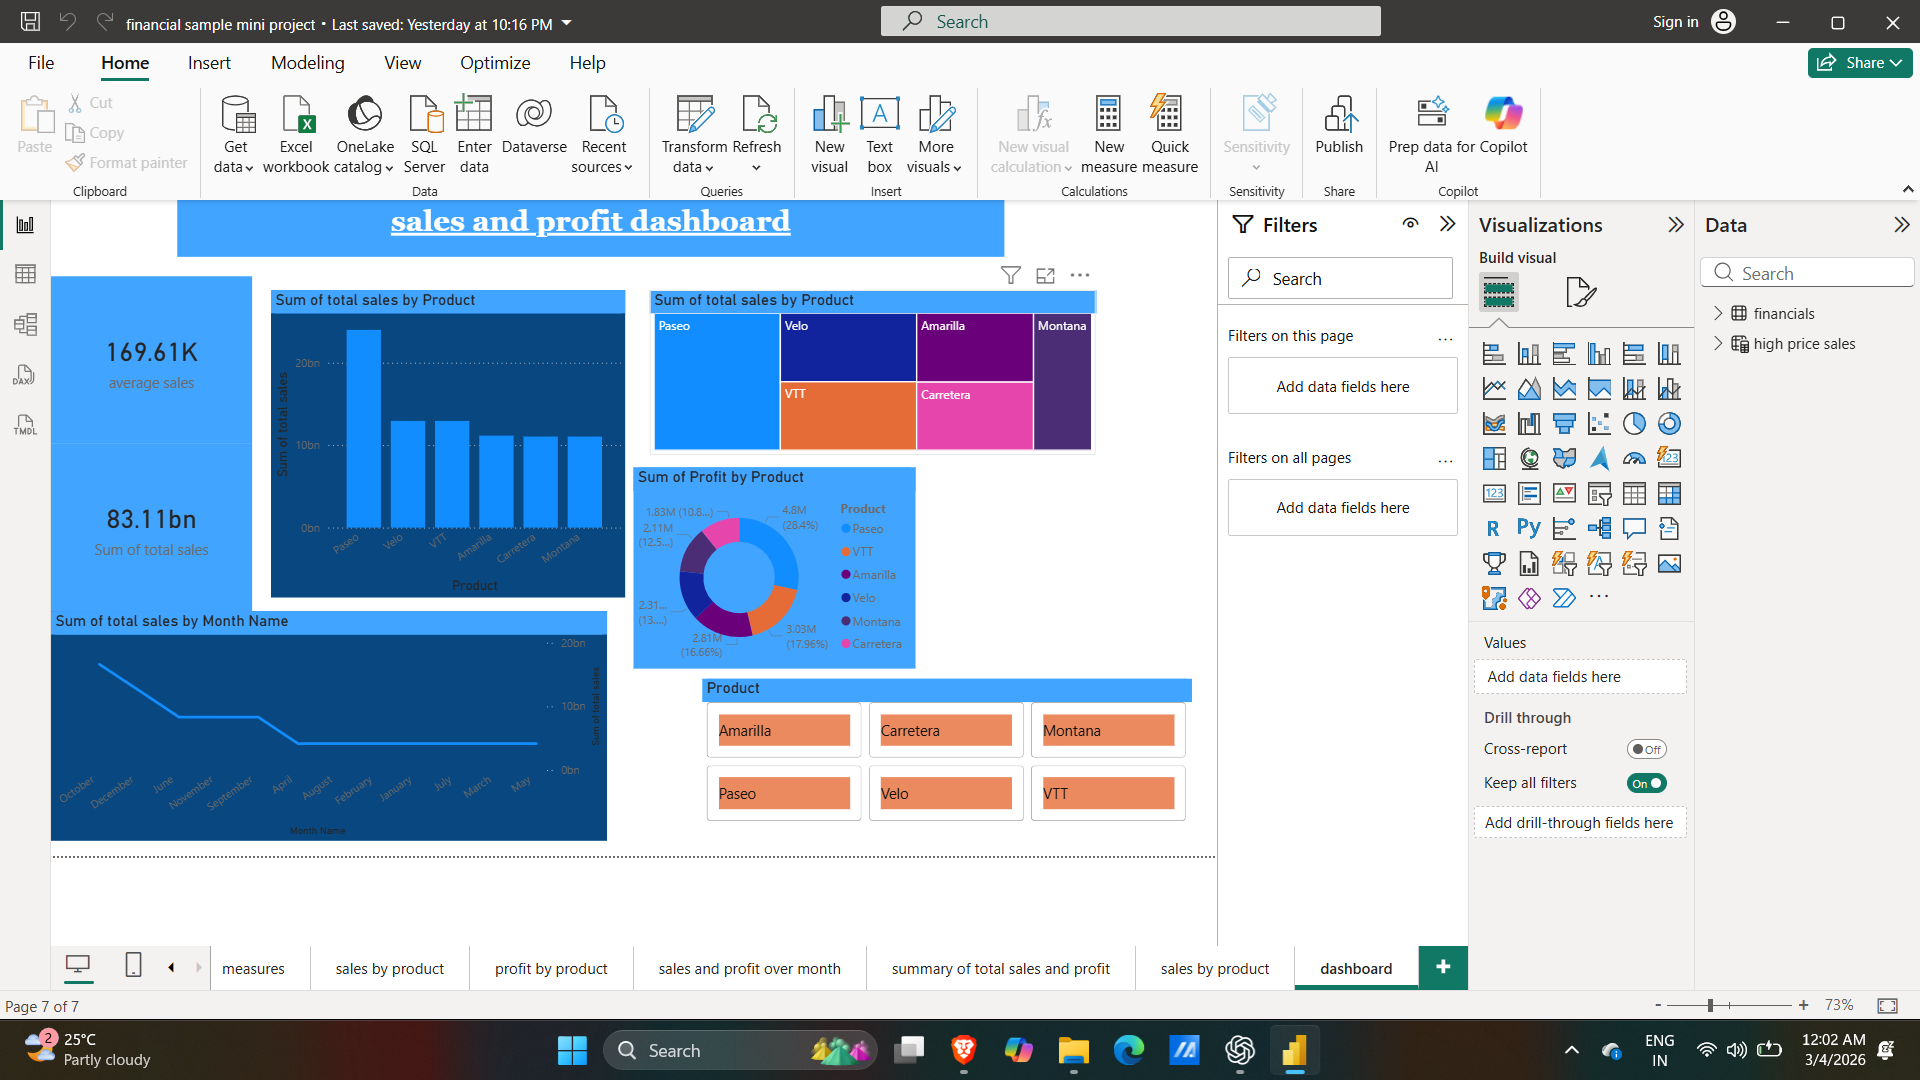

The dashboard page shown, as its layout file describes it:
{"tool":"powerbi","page":{"name":"dashboard","canvas":[1280,720],"ordinal":6},"visuals":[{"type":"textbox","box":[138.3,0,908,62.7],"z":0},{"type":"card","fields":{"Values":["financials.average sales"]},"box":[0,84.1,220.9,183.9],"z":1000},{"type":"card","fields":{"Values":["Sum(financials.total sales)"]},"box":[0,268,220.9,183.9],"z":2000},{"type":"clusteredColumnChart","fields":{"Category":["financials.Product"],"Y":["Sum(financials.total sales)"]},"box":[240.9,98.4,389.1,337.8],"z":3000},{"type":"donutChart","fields":{"Category":["financials.Product"],"Y":["Sum(financials.Profit)"]},"box":[640,293.6,309.3,220.9],"z":4000},{"type":"lineChart","fields":{"Category":["financials.Month Name"],"Y2":["Sum(financials.total sales)"]},"box":[0,451.8,610.1,252.3],"z":5000},{"type":"treemap","fields":{"Group":["financials.Product"],"Values":["Sum(financials.total sales)"]},"box":[657.1,98.4,490.3,181],"z":6000},{"type":"advancedSlicerVisual","fields":{"Values":["financials.Product"]},"box":[715.5,526,537.4,162.5],"z":7000}]}

Visuals, with their boxes on the page's 1280x720 design canvas (x1, y1, x2, y2). These are canvas units, not pixel positions in the 1920x1080 screenshot, which may show the page scaled, cropped or inside an application window:
textbox: (left=138, top=0, right=1046, bottom=63)
card - financials.average sales: (left=0, top=84, right=221, bottom=268)
card - Sum(financials.total sales): (left=0, top=268, right=221, bottom=452)
clusteredColumnChart - financials.Product x Sum(financials.total sales): (left=241, top=98, right=630, bottom=436)
donutChart - financials.Product x Sum(financials.Profit): (left=640, top=294, right=949, bottom=514)
lineChart - financials.Month Name x Sum(financials.total sales): (left=0, top=452, right=610, bottom=704)
treemap - financials.Product x Sum(financials.total sales): (left=657, top=98, right=1147, bottom=279)
advancedSlicerVisual - financials.Product: (left=716, top=526, right=1253, bottom=688)
